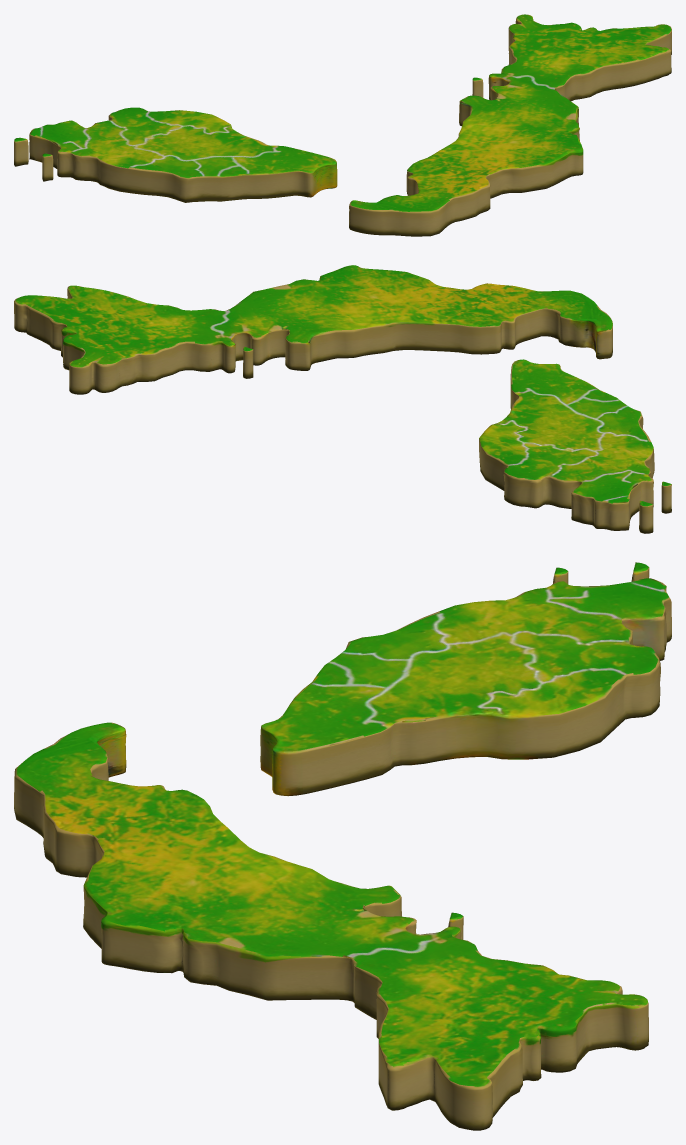
File: MalaysiaMap2.fbx
The picture shows the model from 3 angles, top to bottom: view 1: azimuth 30°, elevation 25°; view 2: azimuth 150°, elevation 25°; view 3: azimuth 270°, elevation 25°; orthographic projection. The views are drawn at different scales.
Visible parts, largest first — view 1: MalaysiaMap2; view 2: MalaysiaMap2; view 3: MalaysiaMap2.
Boxes of the visible parts, x1,y1,x2,y2 form: MalaysiaMap2: (14, 14, 671, 236); MalaysiaMap2: (14, 265, 671, 533); MalaysiaMap2: (14, 562, 671, 1130).
Bounding box in the file's own units: 99.94 × 4.03 × 52.82.
